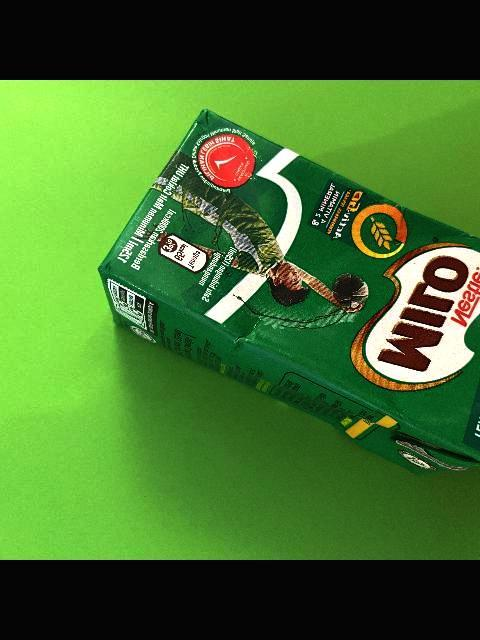drinkpack: (95, 106, 480, 478)
